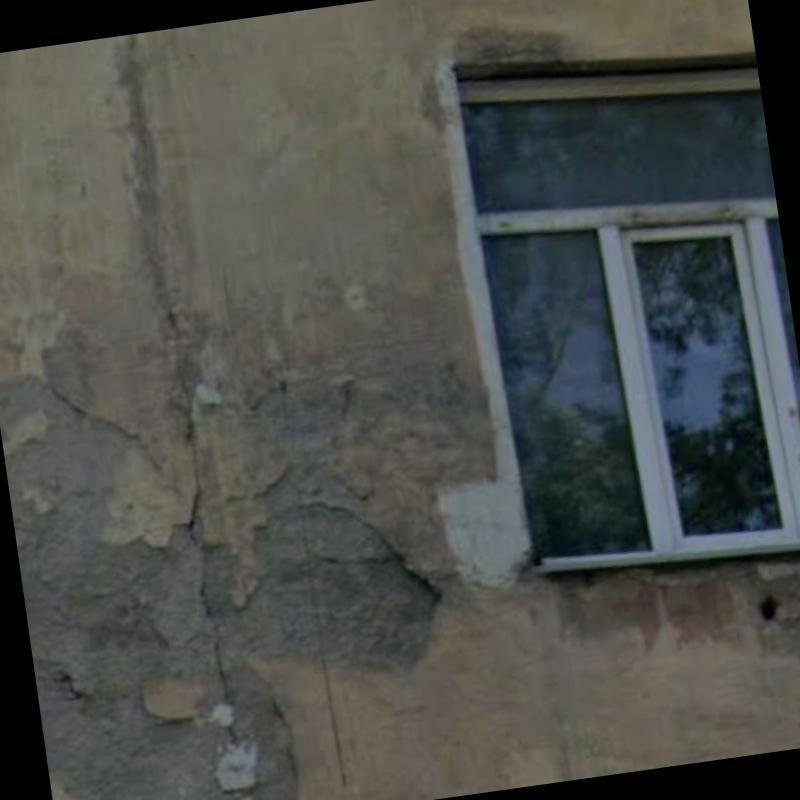pothole: (169, 313, 236, 745)
